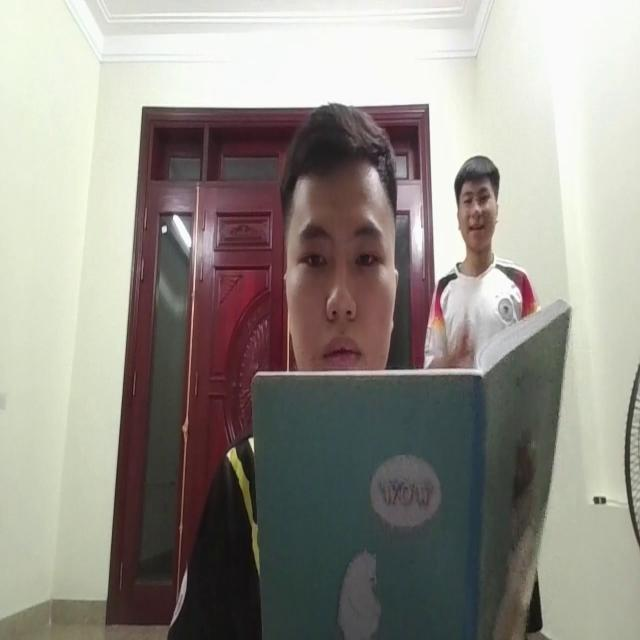book: (245, 298, 568, 638)
extra_person: (431, 140, 518, 347)
student: (276, 88, 406, 380)
